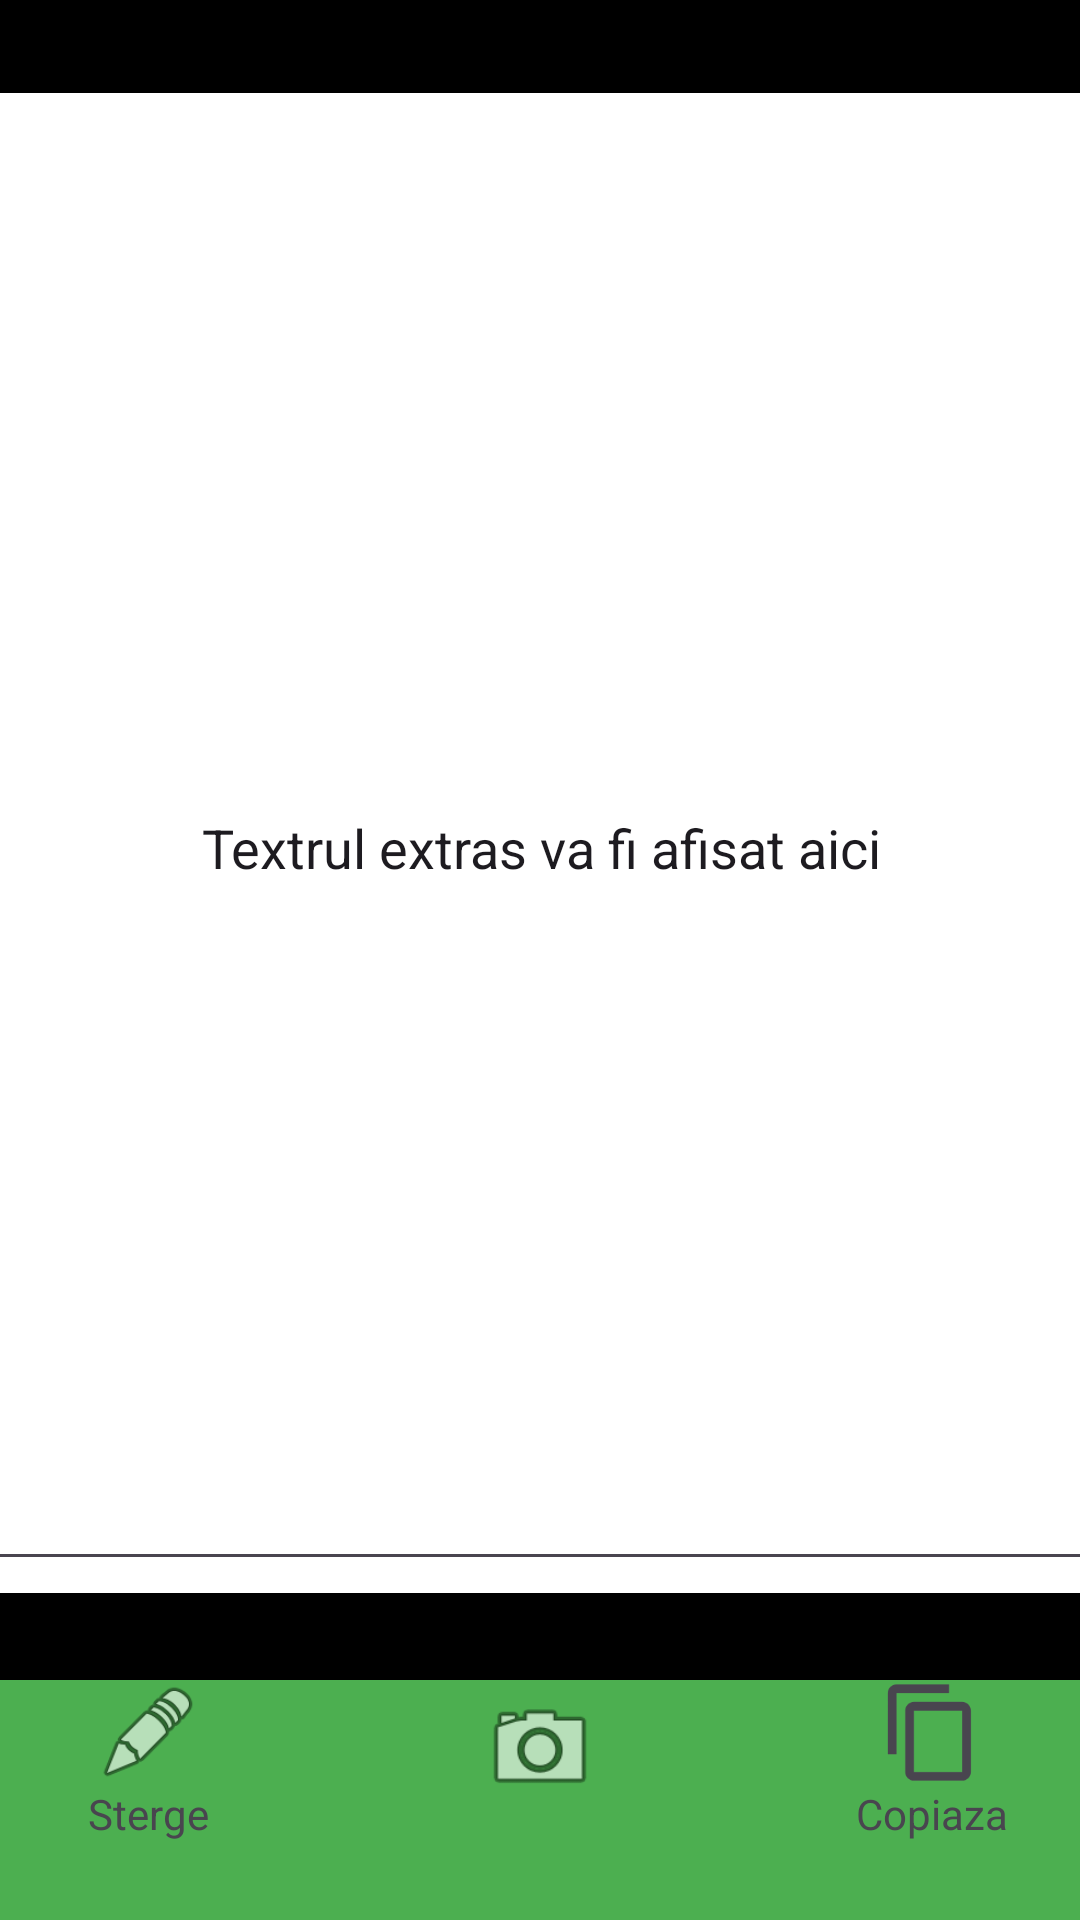

Where to tap for icons on this 1080px x 1920px app screen, as (x,y):
camera: (540,1746)
edit: (148,1731)
